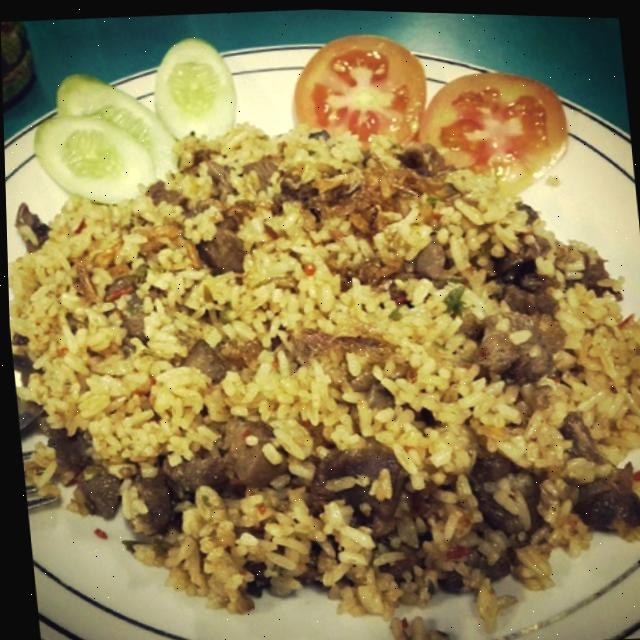米饭主食: (45, 29, 640, 640)
